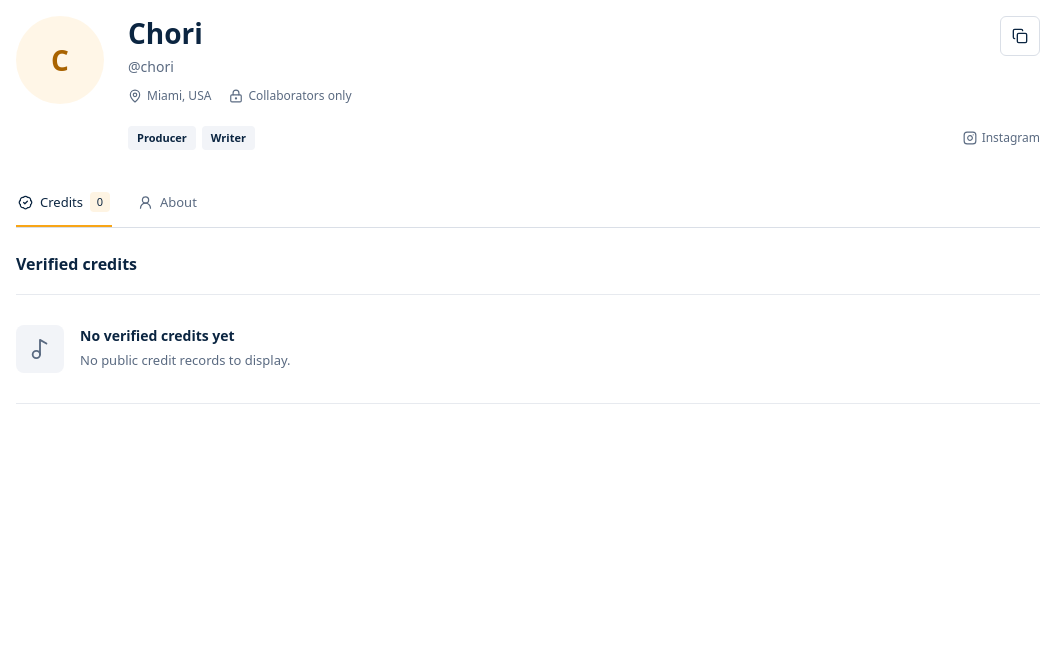
Test: compact creator profile › shows only public identity and safe social links in About
Press the mouse on the tab "About" at (167,203), box [136, 179, 199, 227]
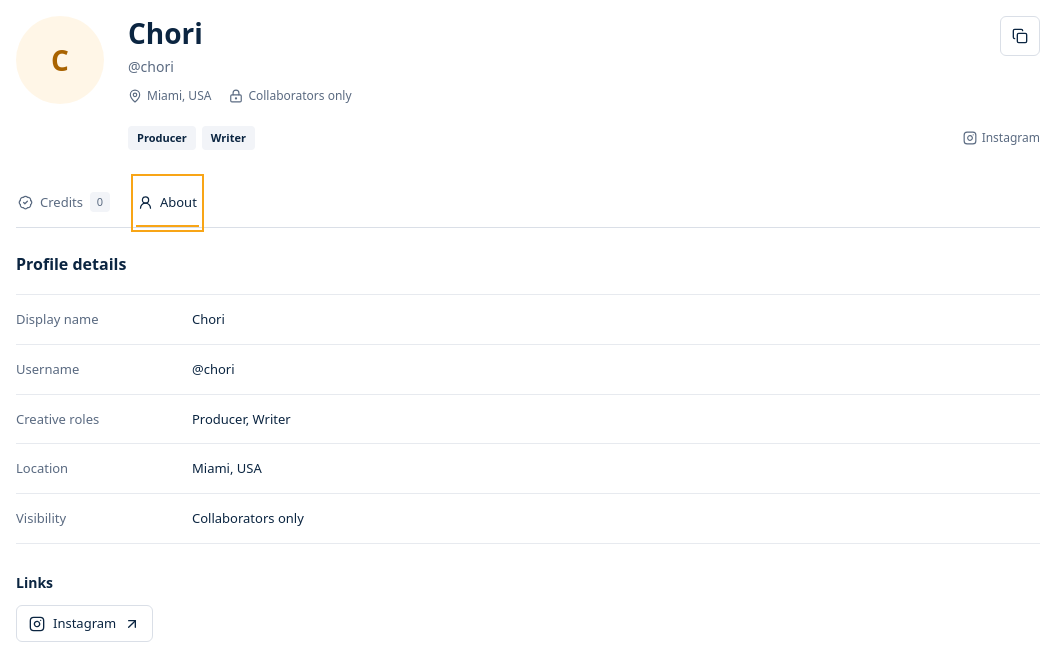
Result: the text "Miami, USA" is shown at [192, 459, 262, 477]
